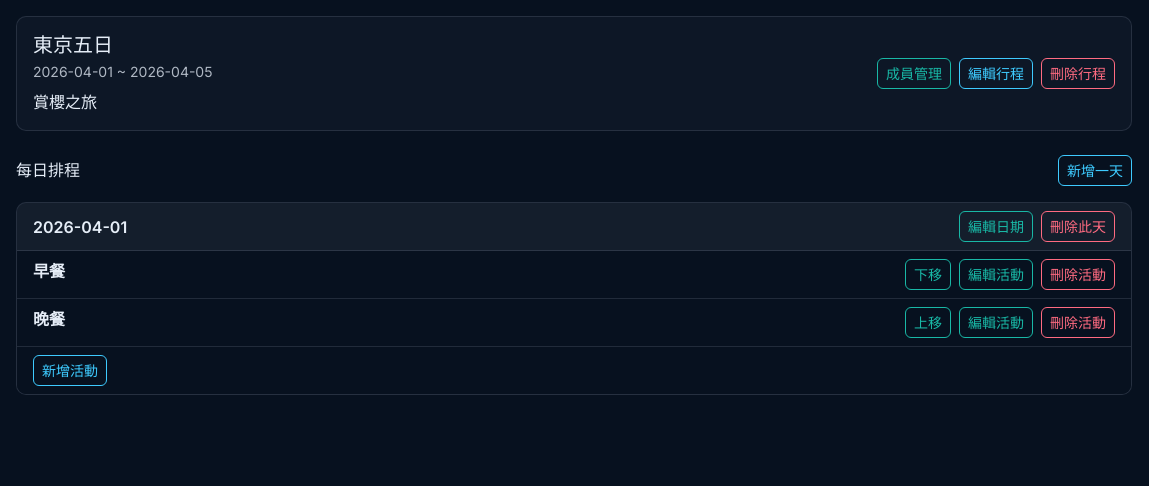
Scenario: TripDetailPage › 權限拒絕的橫切處理 › 調整活動順序收到 403 時於頁面顯示無權限回饋
Click the button "下移". click: [928, 274]
box: [905,259,951,290]
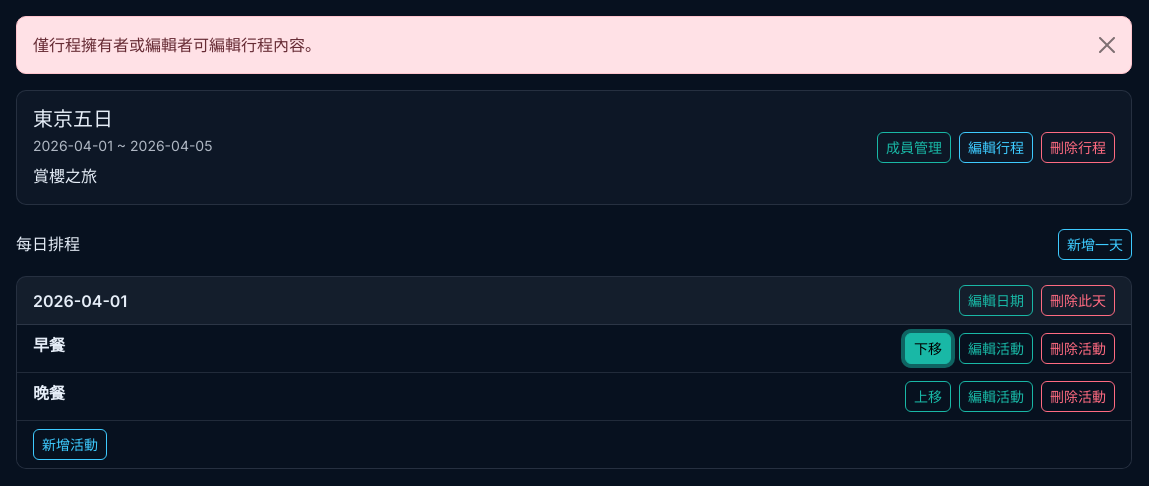
Now the text "僅行程擁有者或編輯者可編輯行程內容。" is shown, box [16,16,1132,74]
